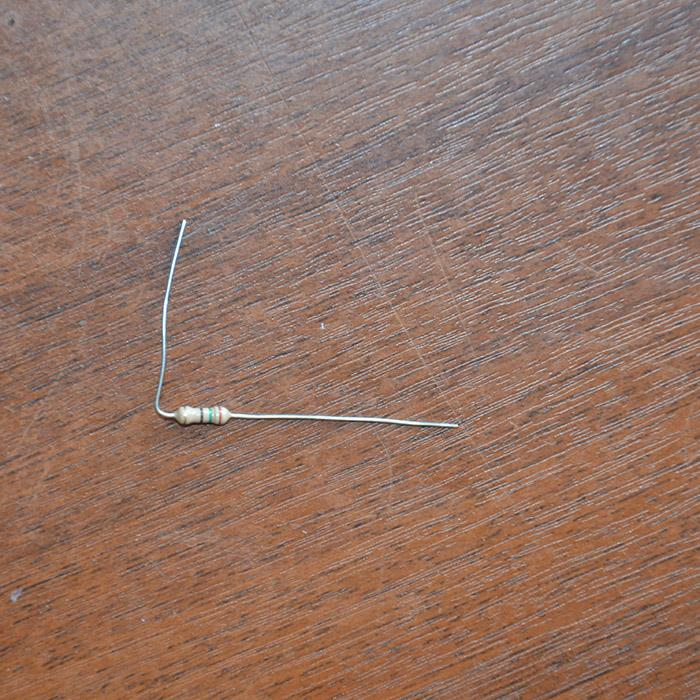resistor: (174, 403, 231, 425)
